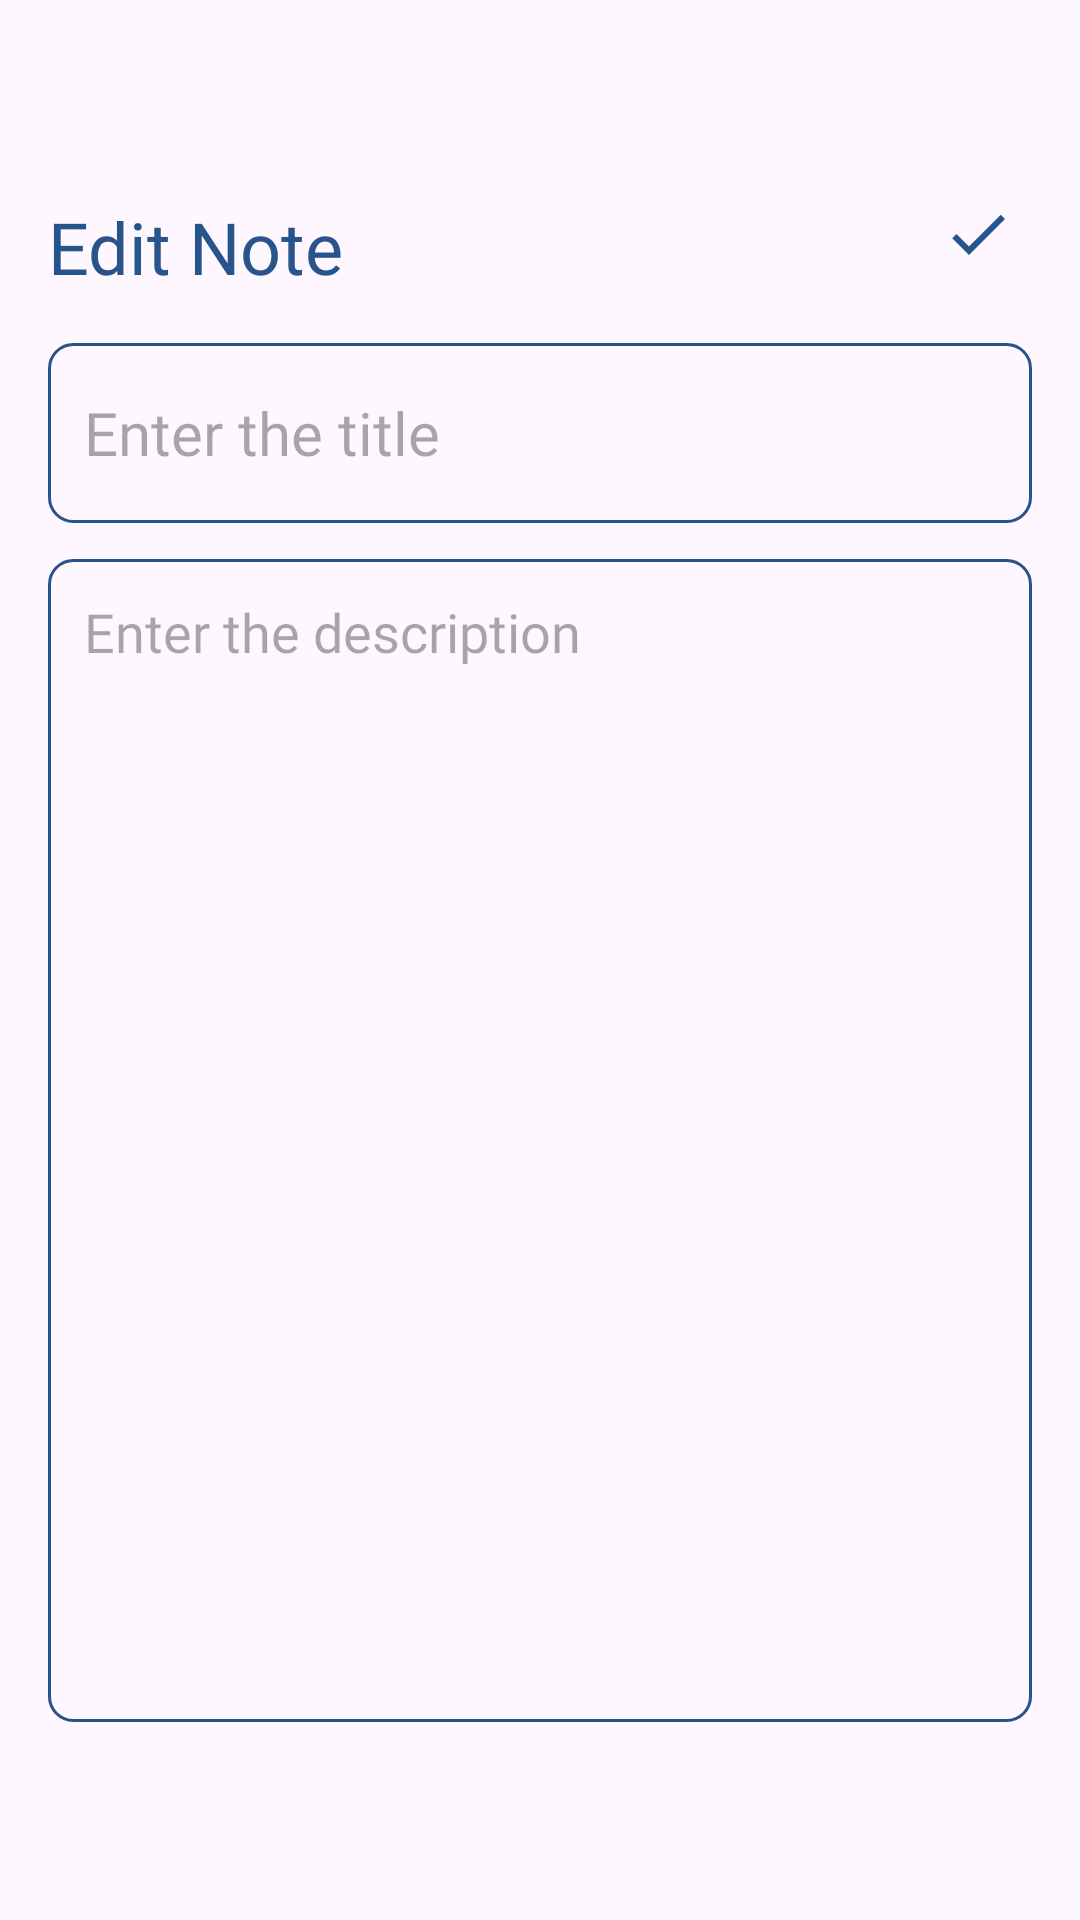

Screen size 1080 x 1920. Icon name, then its box in pixels as (x1, y1, x2, y2):
Save Button: (952, 215, 1005, 255)
